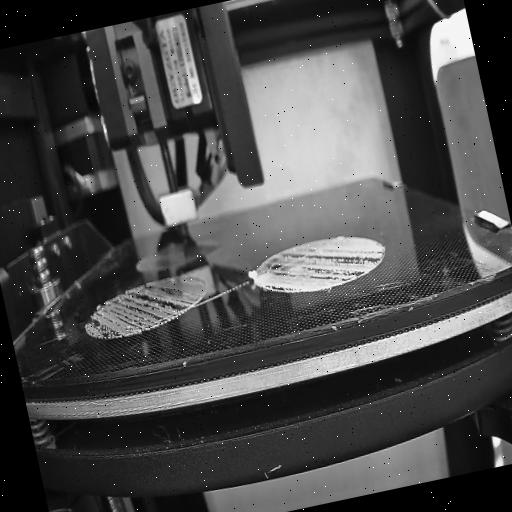under_extrusion: (257, 230, 387, 300), (83, 270, 209, 337)
